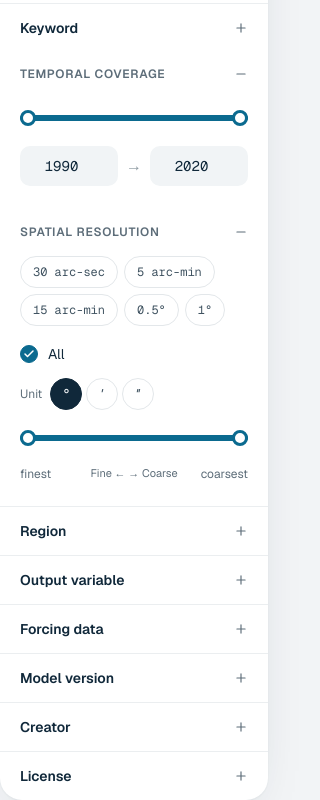
CatalogueSidebar groups › opens and closes a group from its chevron button
(page scrolled)
Check: the checkbox labelled "Discharge" is not shown
Click the button "Output variable".
click(134, 580)  # box top-left (16, 556), bottom-right (252, 604)
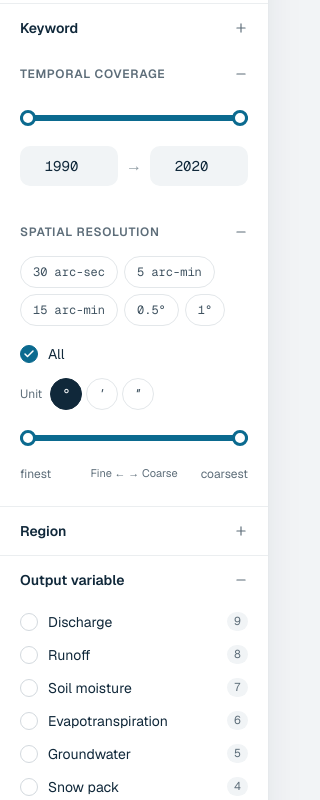
Check: the checkbox labelled "Discharge 9" is shown, box top-left (20, 612), bottom-right (248, 631)
Click the button "Output variable".
click(134, 580)  # box top-left (16, 556), bottom-right (252, 604)
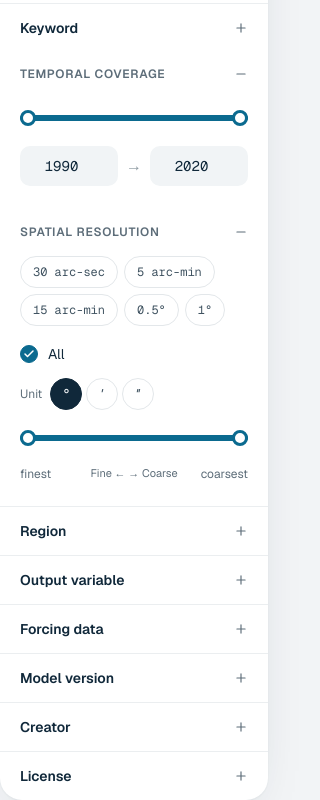
Check: the text "Discharge" is gone
